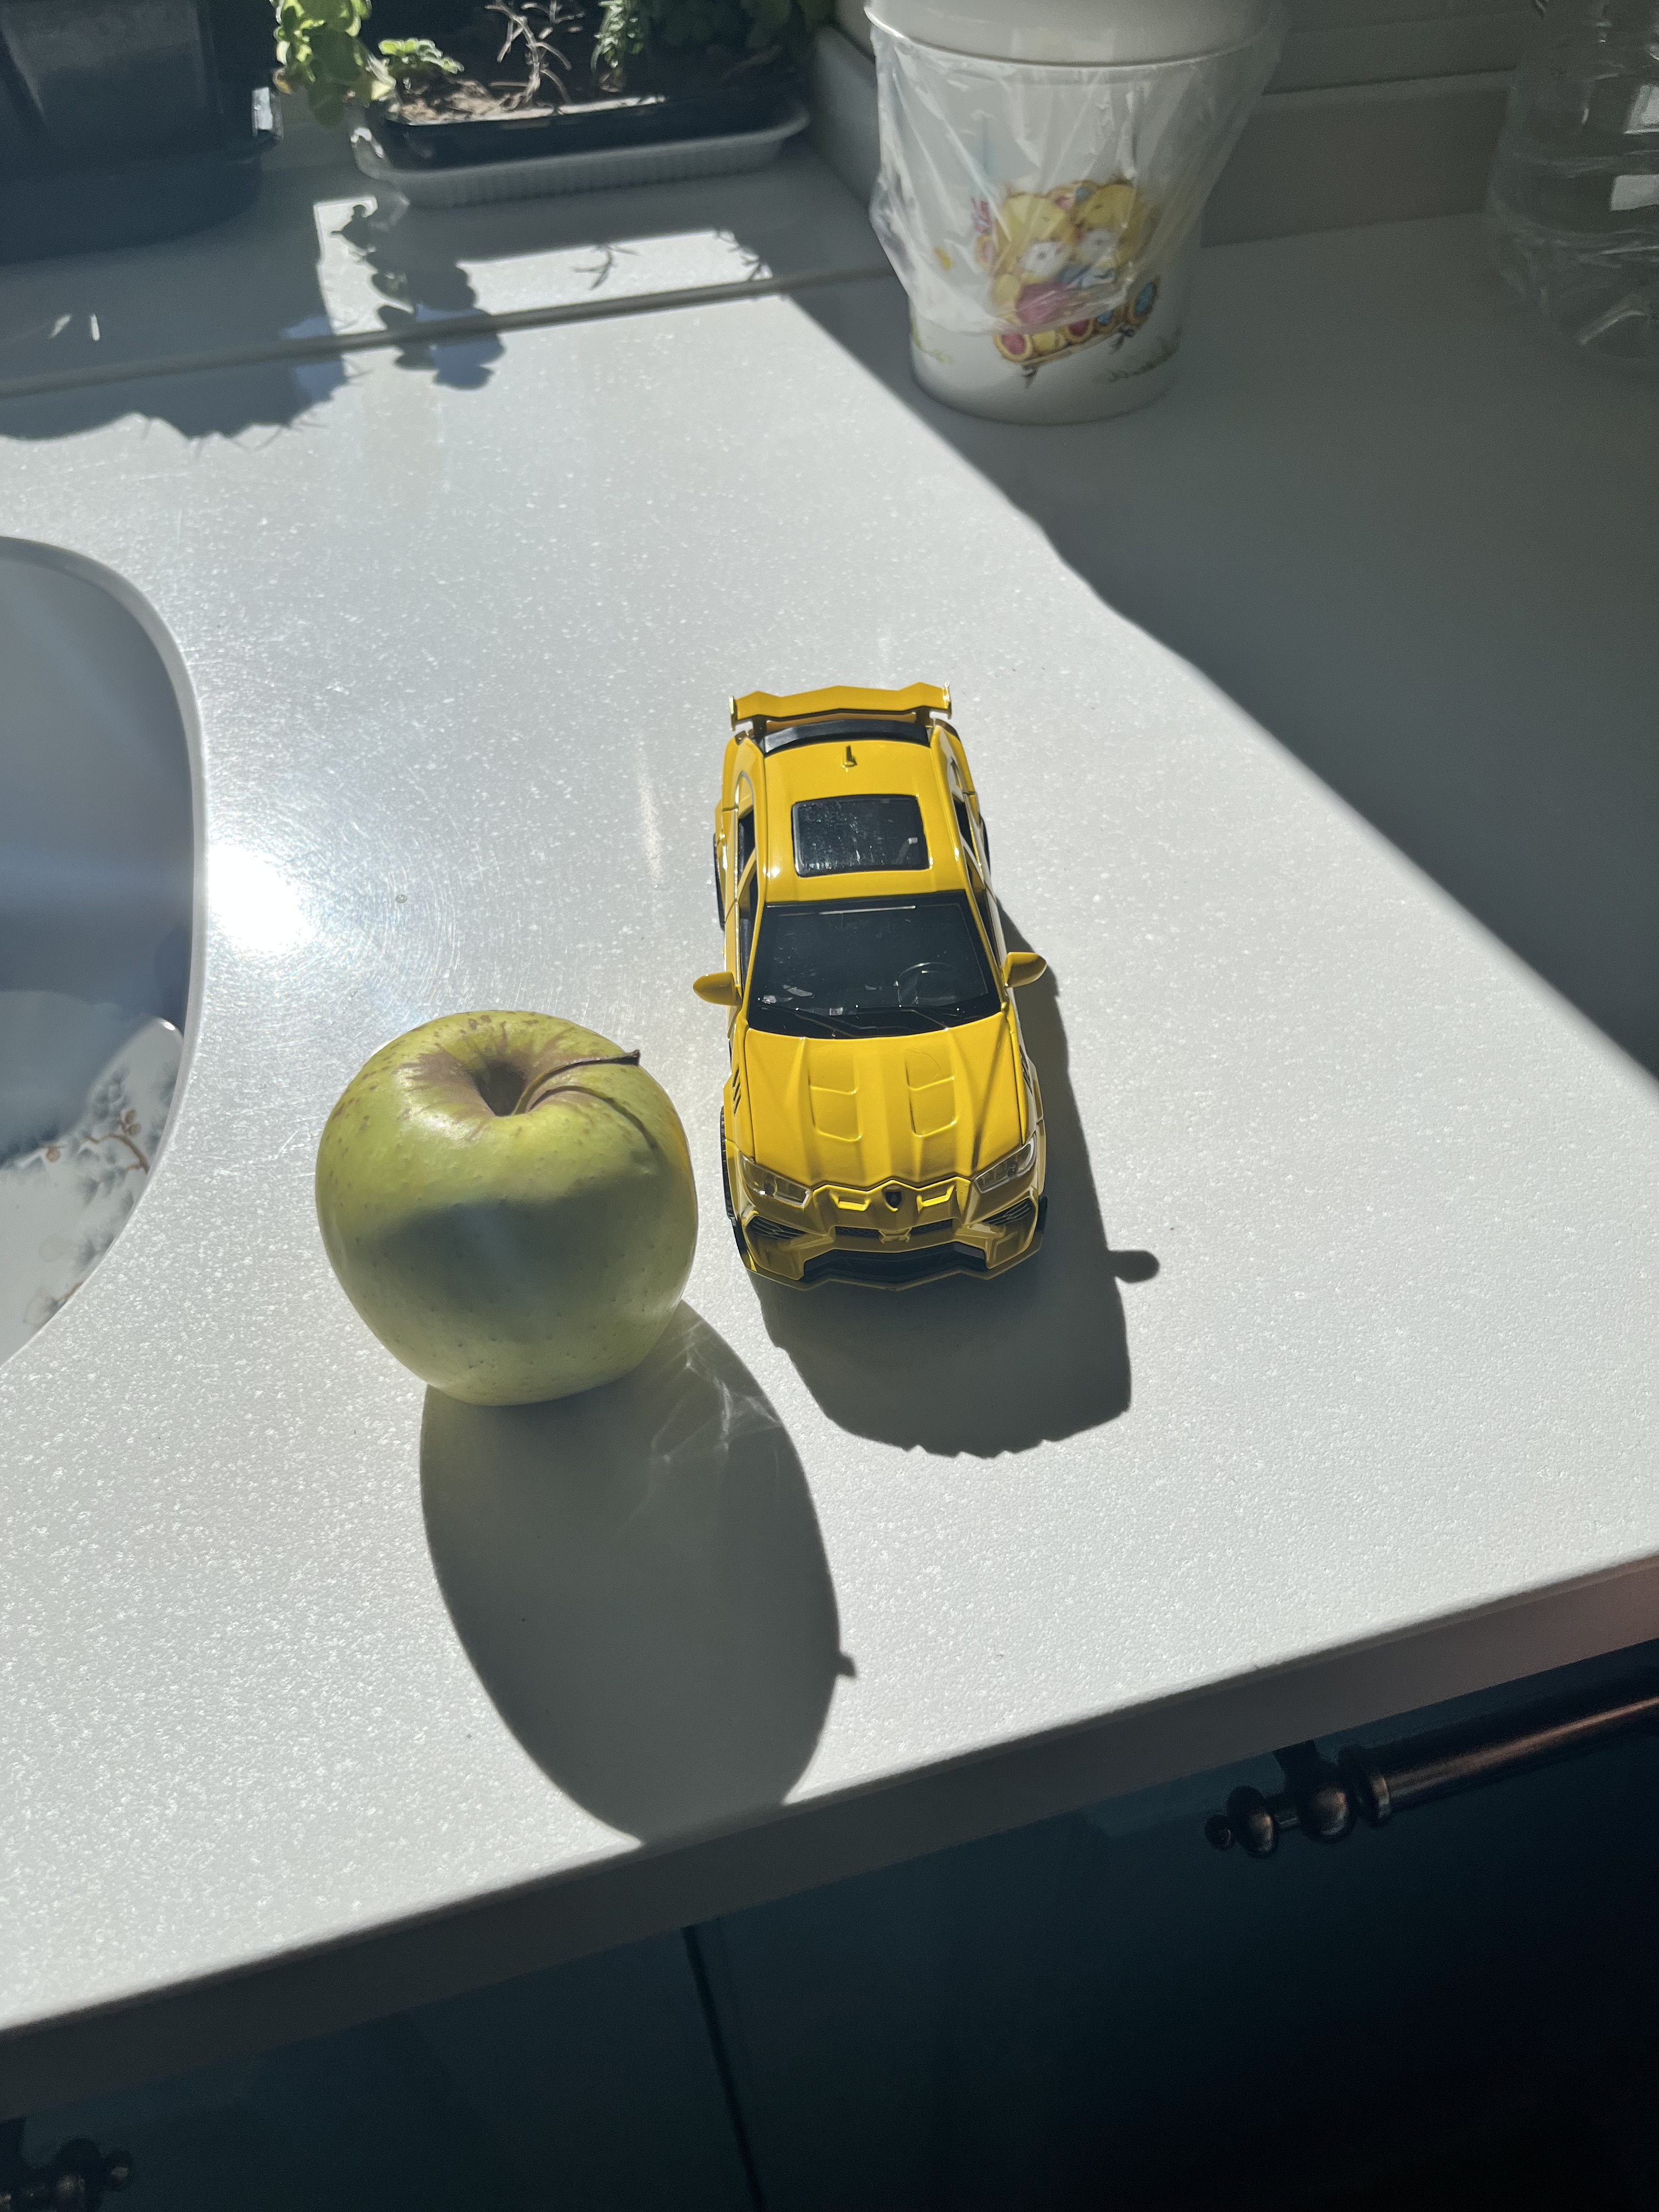lambo: (702, 686, 1047, 1301)
